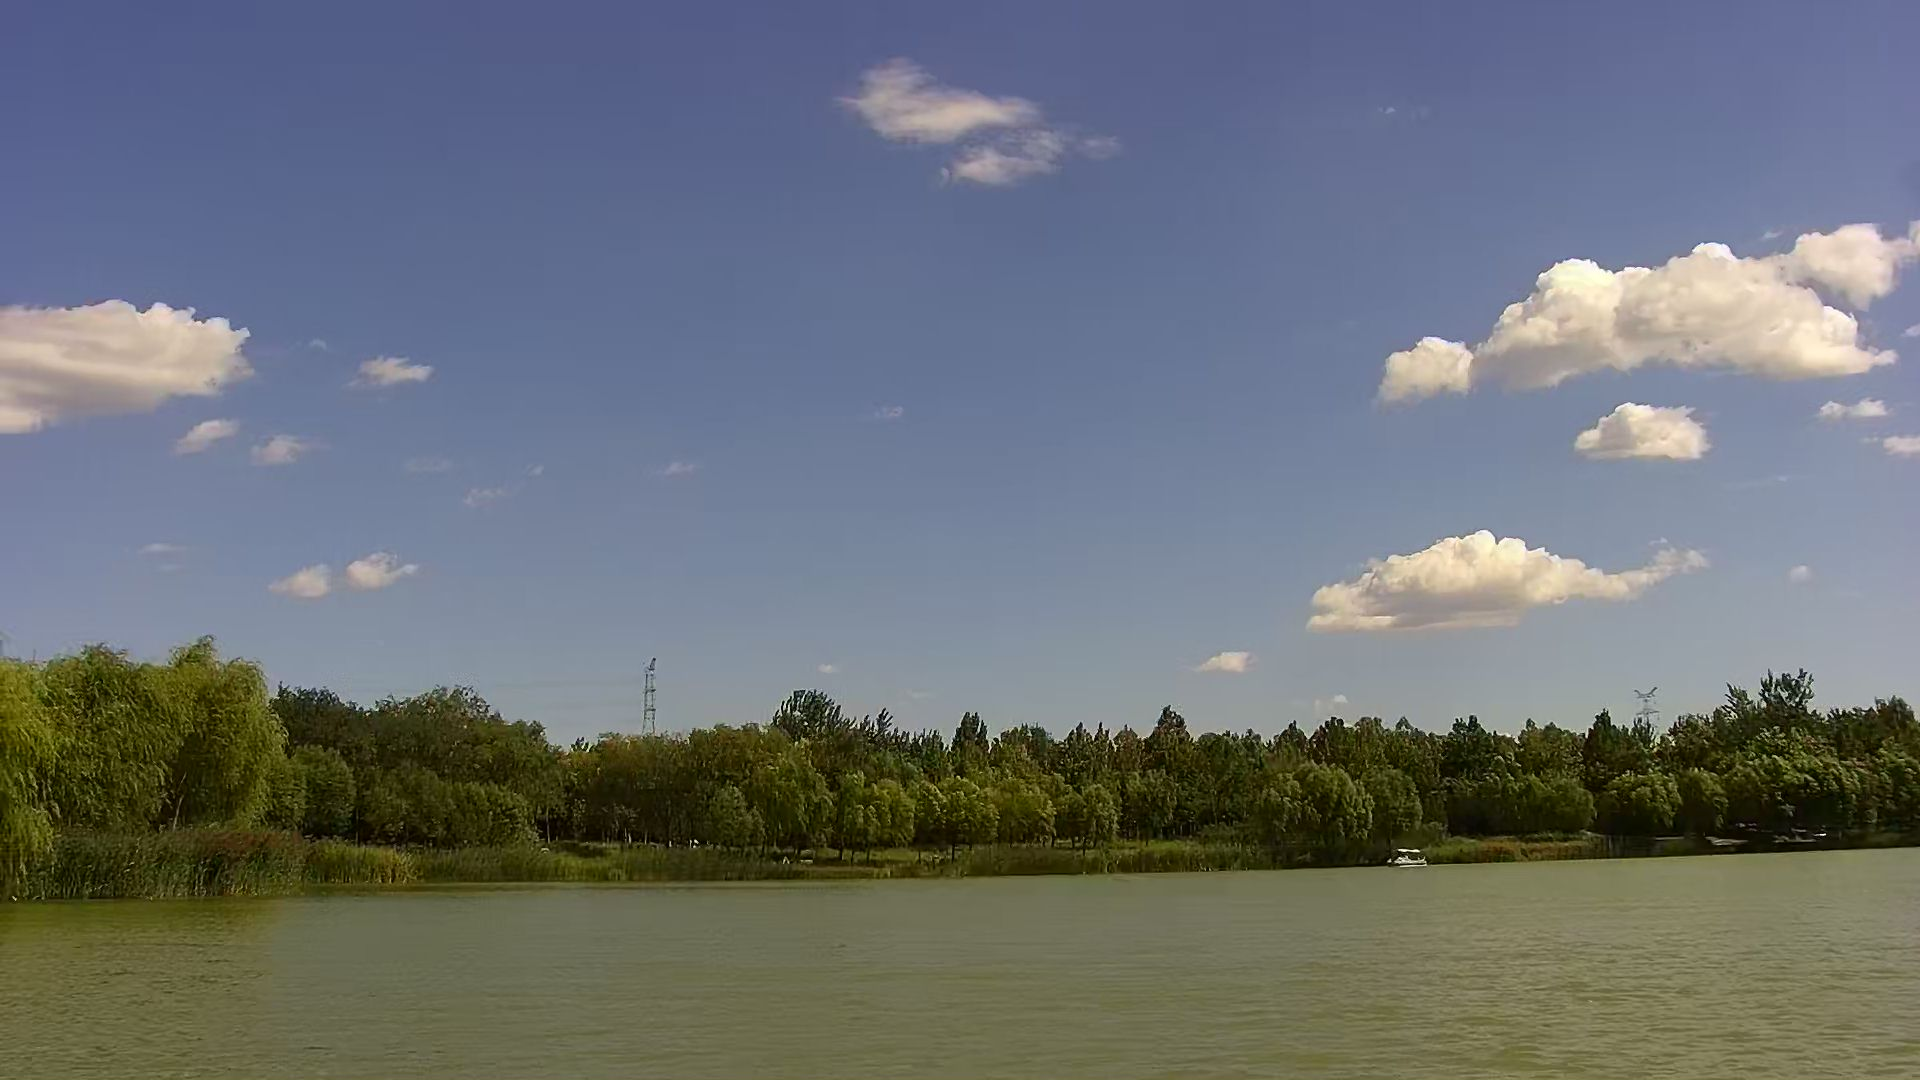boat: (1385, 848, 1429, 869)
